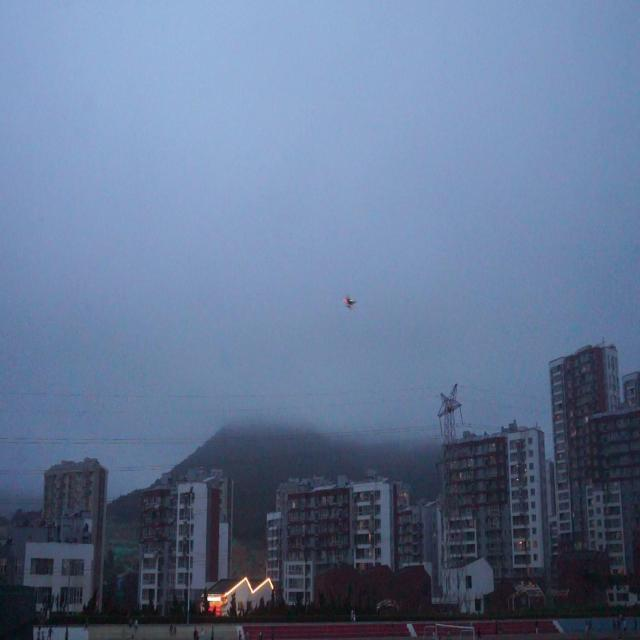drone: (341, 292, 359, 312)
